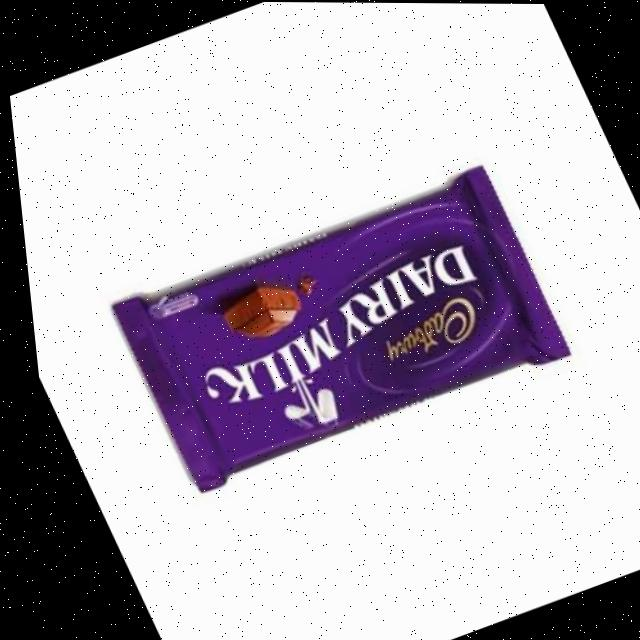cadbury: (108, 179, 553, 478)
